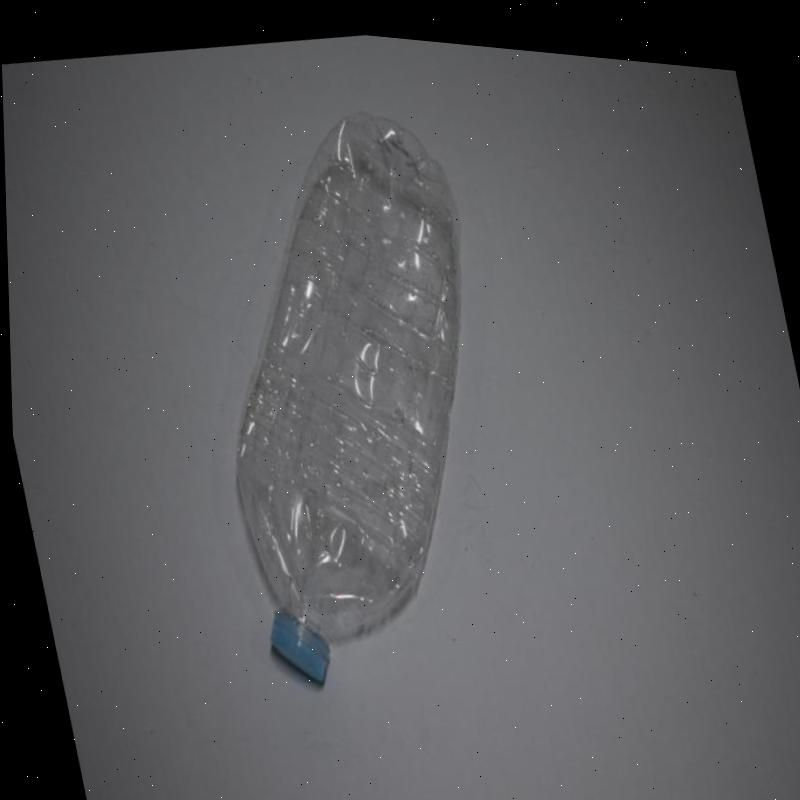botella: (162, 79, 551, 707)
